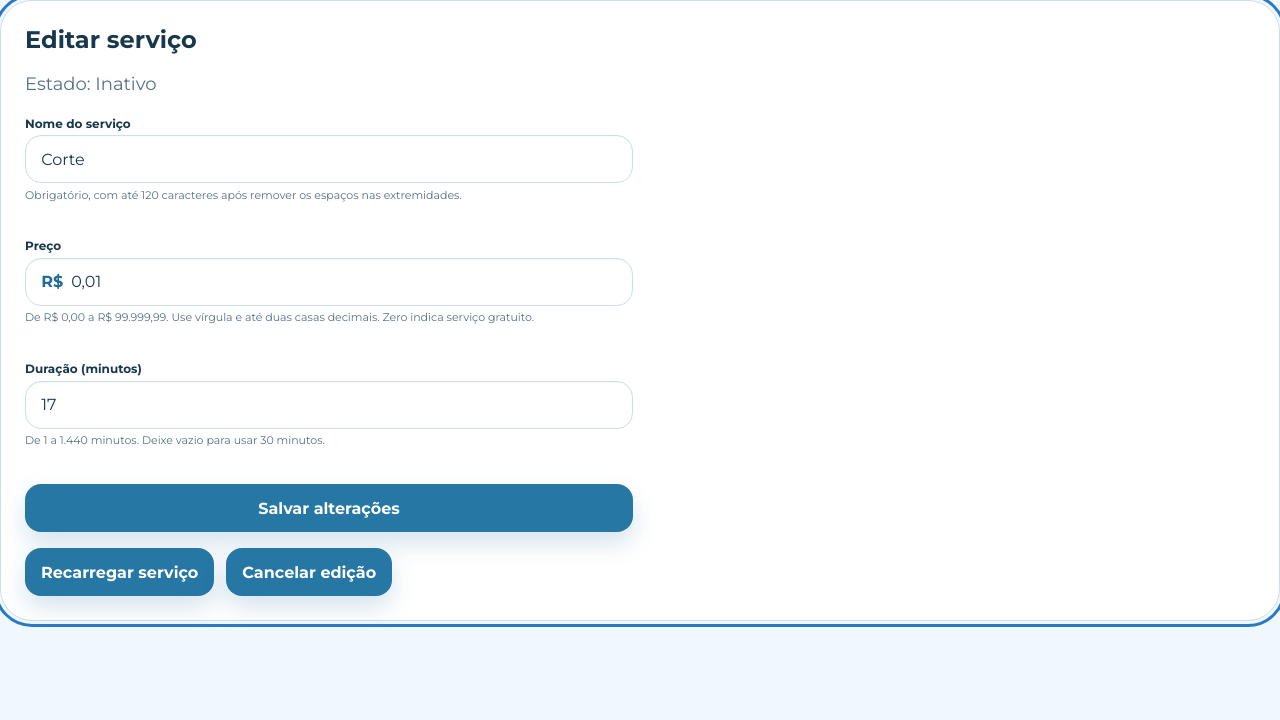
Test: preserva rascunho e exige recarga após resposta ambígua
Expected: the field labelled "Preço" is shown, [63,259,632,305]
Replace the text in the field labelled "Nome do serviço" with "Novo nome". click: x=329, y=159
box: [25,135,633,183]
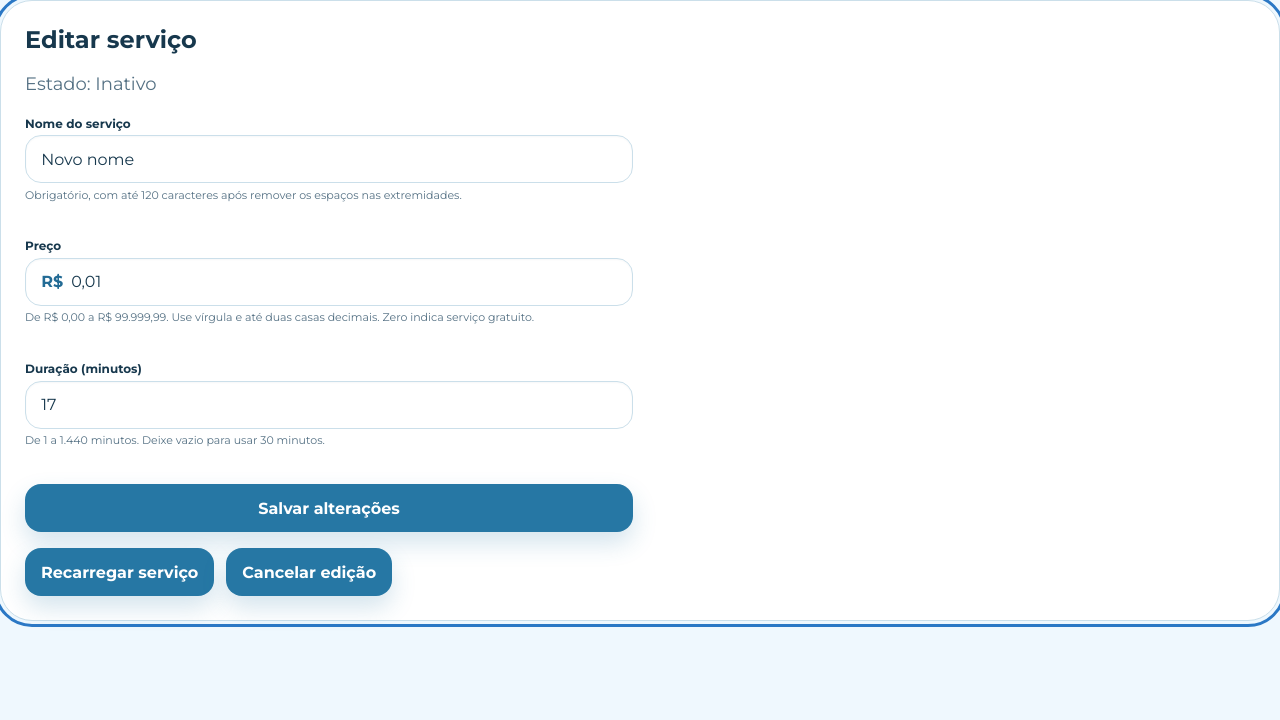
Click the button "Salvar alterações". click: x=329, y=508
box: [25,484,633,532]
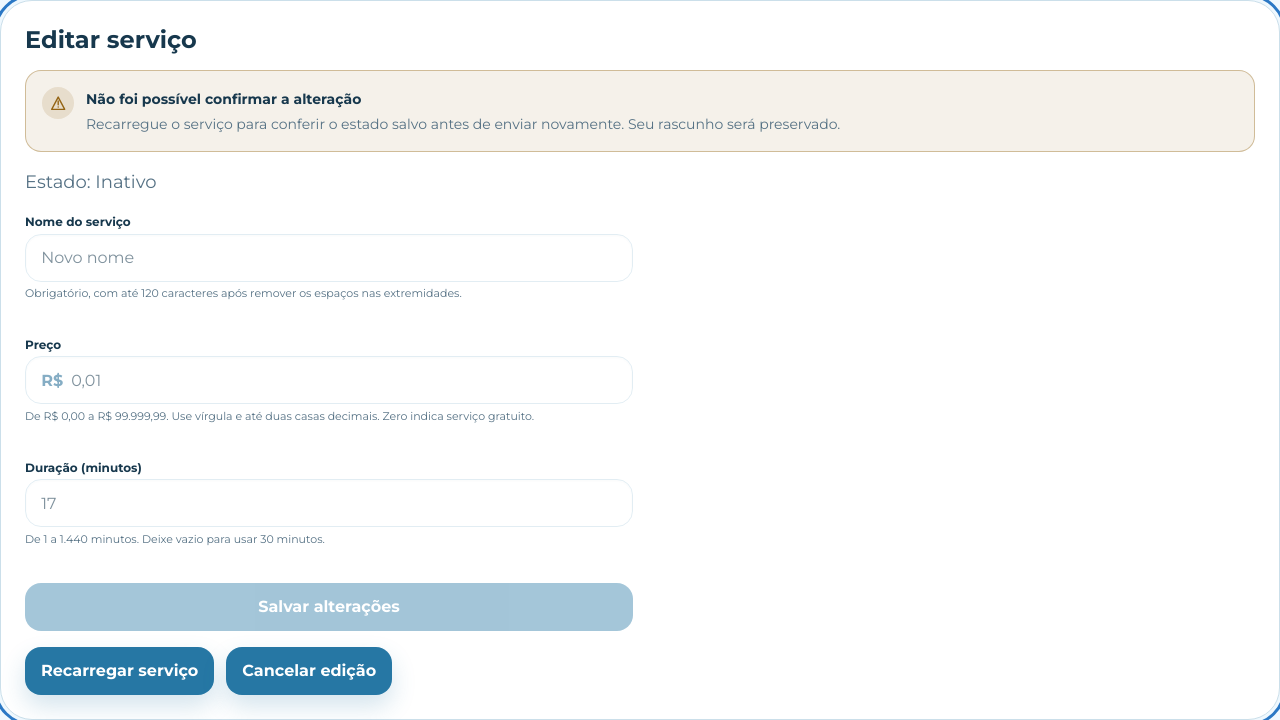
Expected: the text "Não foi possível confirmar a alteração" is shown, [86,90,361,108]
Expected: the button "Salvar alterações" is disabled, [25,582,633,630]
Click the button "Recarregar serviço". click: x=120, y=670
box: [25,646,214,694]
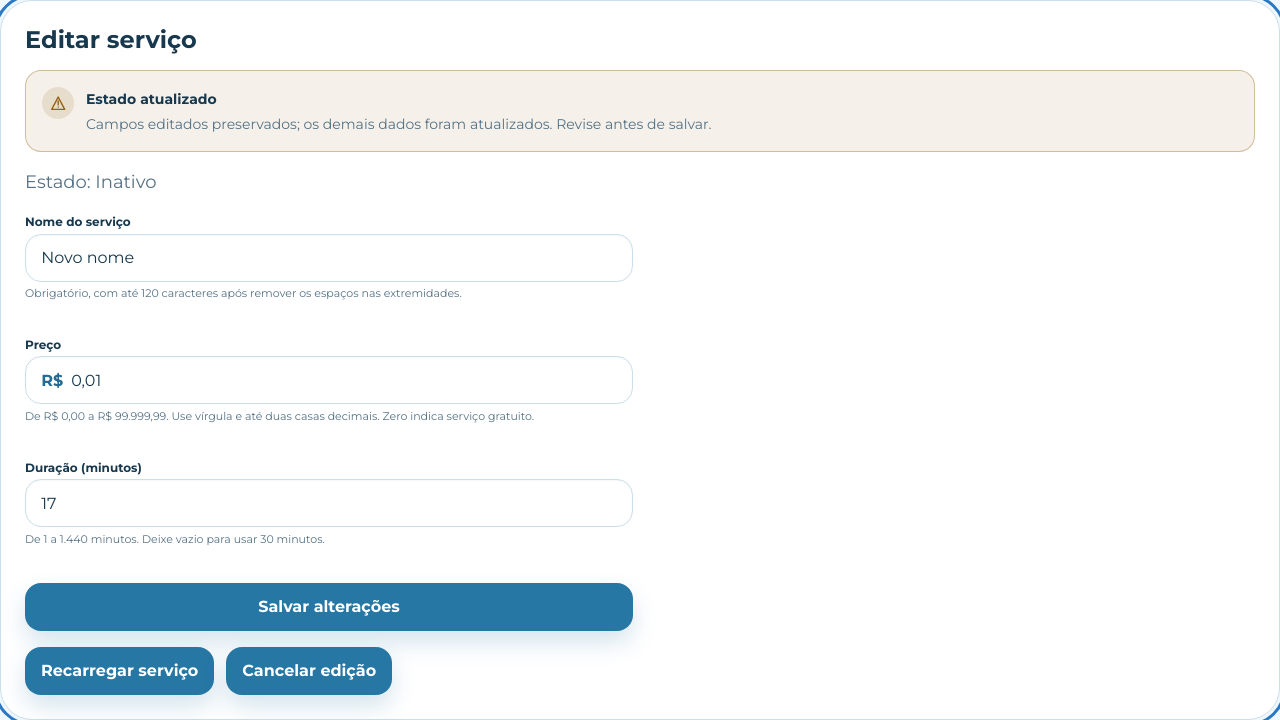
Expected: the button "Salvar alterações" is enabled, [25,582,633,630]
